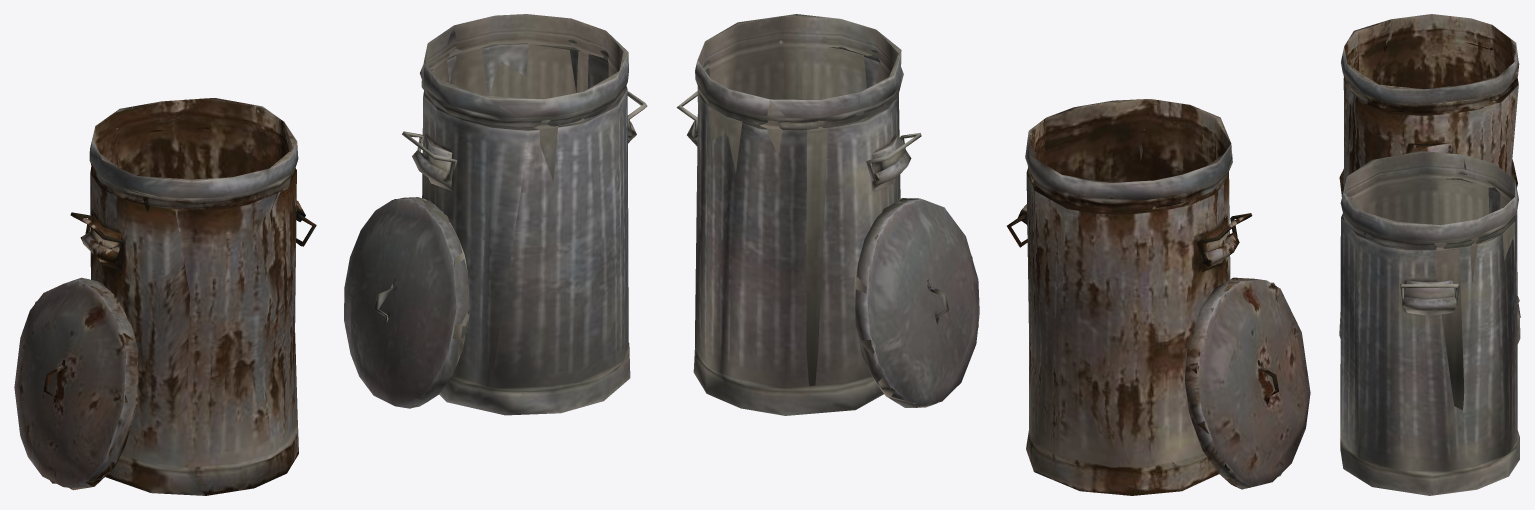
Rendered from trashcan.glb.
The picture shows the model from 3 angles, left to right: view 1: azimuth 30°, elevation 25°; view 2: azimuth 150°, elevation 25°; view 3: azimuth 270°, elevation 25°; orthographic projection. The views are drawn at different scales.
Visible parts, largest first — view 1: metal_trash_can_handle_left; view 2: metal_trash_can_handle_left; view 3: metal_trash_can_handle_left.
Boxes of the visible parts, x1,y1,x2,y2 form: metal_trash_can_handle_left: [14, 14, 647, 495]; metal_trash_can_handle_left: [676, 14, 1310, 495]; metal_trash_can_handle_left: [1339, 14, 1520, 495].
Bounding box in the file's own units: 1.78 × 0.9064 × 0.5549.
Materials: 2 (2 with a texture image).
